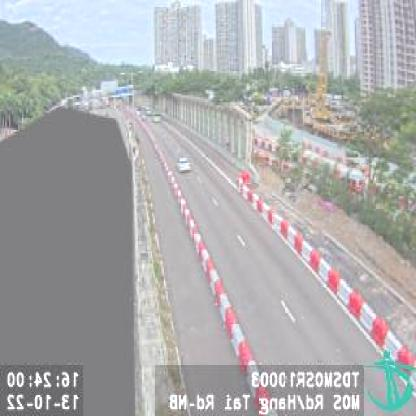Car: (176, 156, 192, 172)
